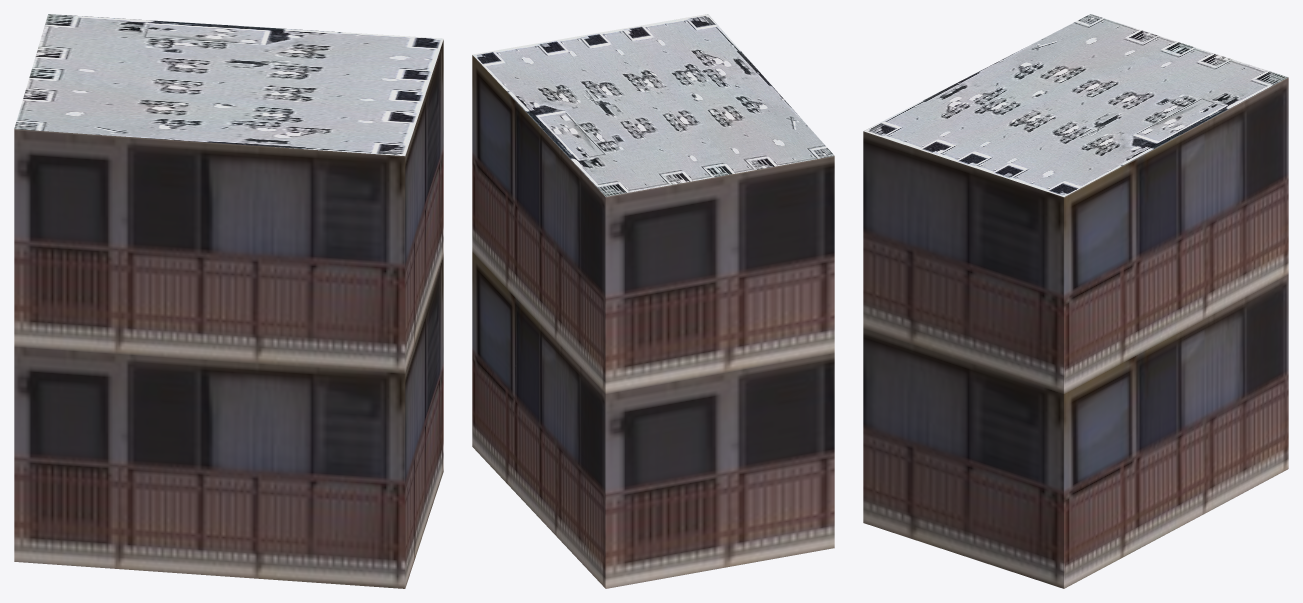
The model's file is ResTex__5112.fbx.
The picture shows the model from 3 angles, left to right: view 1: azimuth 30°, elevation 25°; view 2: azimuth 150°, elevation 25°; view 3: azimuth 270°, elevation 25°; orthographic projection. The views are drawn at different scales.
Visible parts, largest first — view 1: CityEngineMaterial_6_m, CityEngineMaterial_8_m; view 2: CityEngineMaterial_6_m, CityEngineMaterial_8_m; view 3: CityEngineMaterial_6_m, CityEngineMaterial_8_m.
Part boxes in pixels (x1=…): CityEngineMaterial_6_m: x1=14, y1=40, x2=443, y2=588; CityEngineMaterial_8_m: x1=14, y1=14, x2=443, y2=155; CityEngineMaterial_6_m: x1=472, y1=55, x2=834, y2=588; CityEngineMaterial_8_m: x1=472, y1=14, x2=834, y2=196; CityEngineMaterial_6_m: x1=863, y1=77, x2=1288, y2=588; CityEngineMaterial_8_m: x1=864, y1=14, x2=1288, y2=196.
Bounding box in the file's own units: 6.02 × 6 × 5.91.
2 materials, 2 textured.
